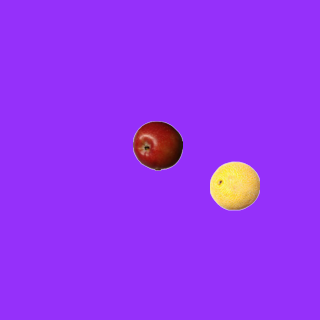Apple Braeburn: (132, 120, 182, 170)
Cantaloupe 1: (209, 160, 259, 210)
